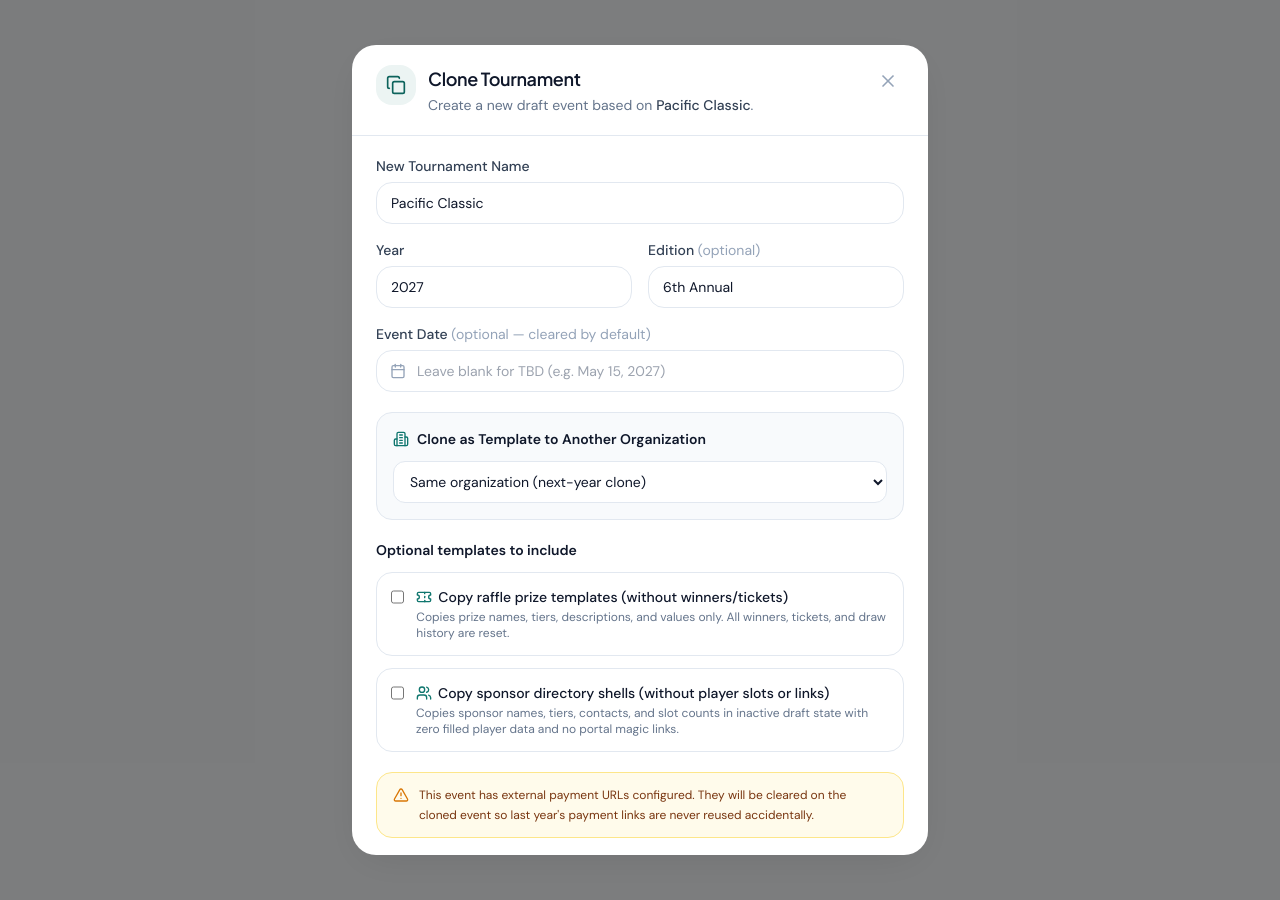
CloneTournamentModal › shows cross-org selector for super_admin, hides sponsor shells, displays strip notice, and submits target_organization_id
The image size is (1280, 900).
Later steps or results of the test are not shown.
Click the 2nd checkbox at {"x": 398, "y": 693}, box [391,685,404,701]
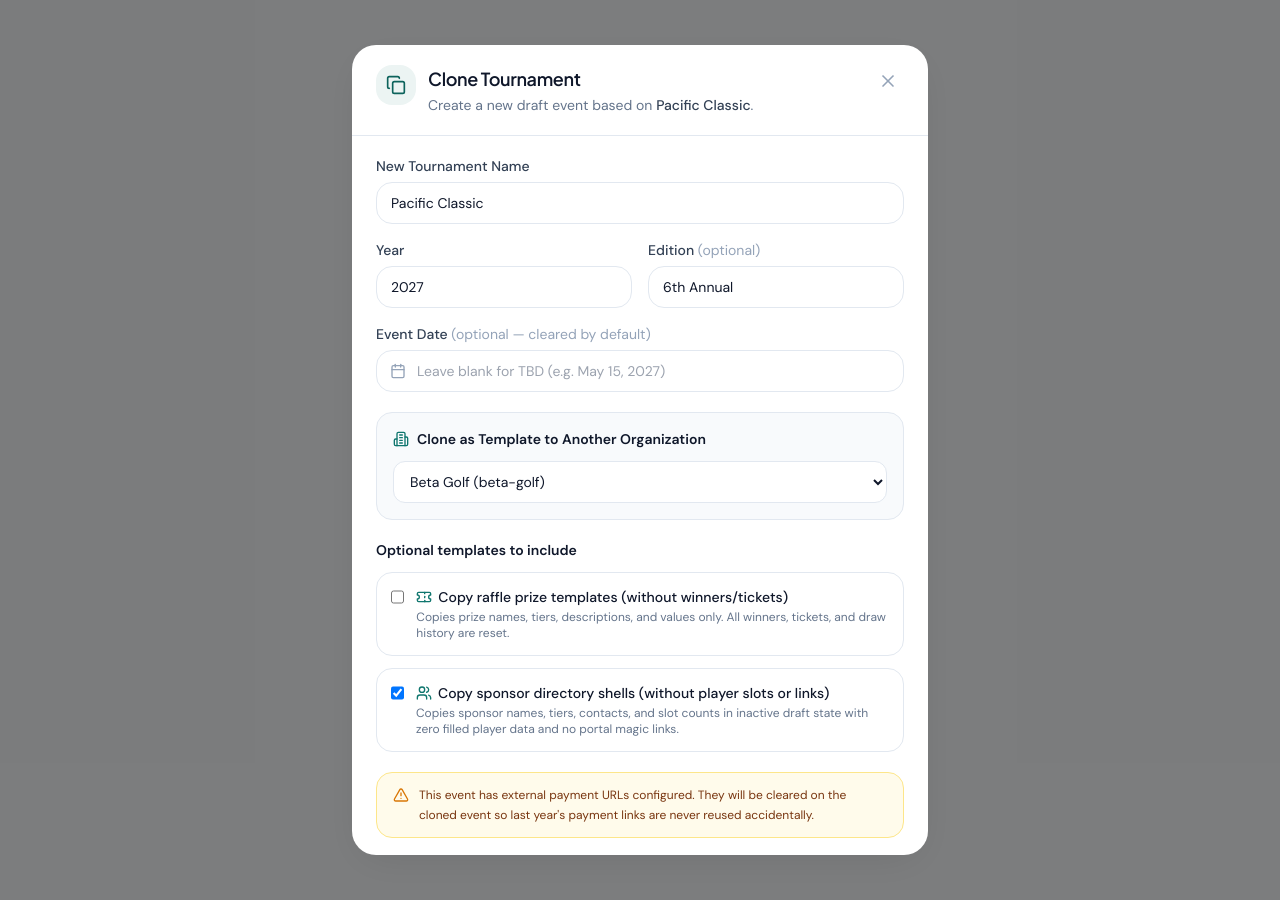
Select "Beta Golf (beta-golf)" in the dropdown with id "clone-target-org" at {"x": 640, "y": 482}, box [393,461,887,503]
Select "Beta Golf (beta-golf)" in the dropdown with id "clone-target-org" at {"x": 640, "y": 482}, box [393,461,887,503]
(page scrolled)
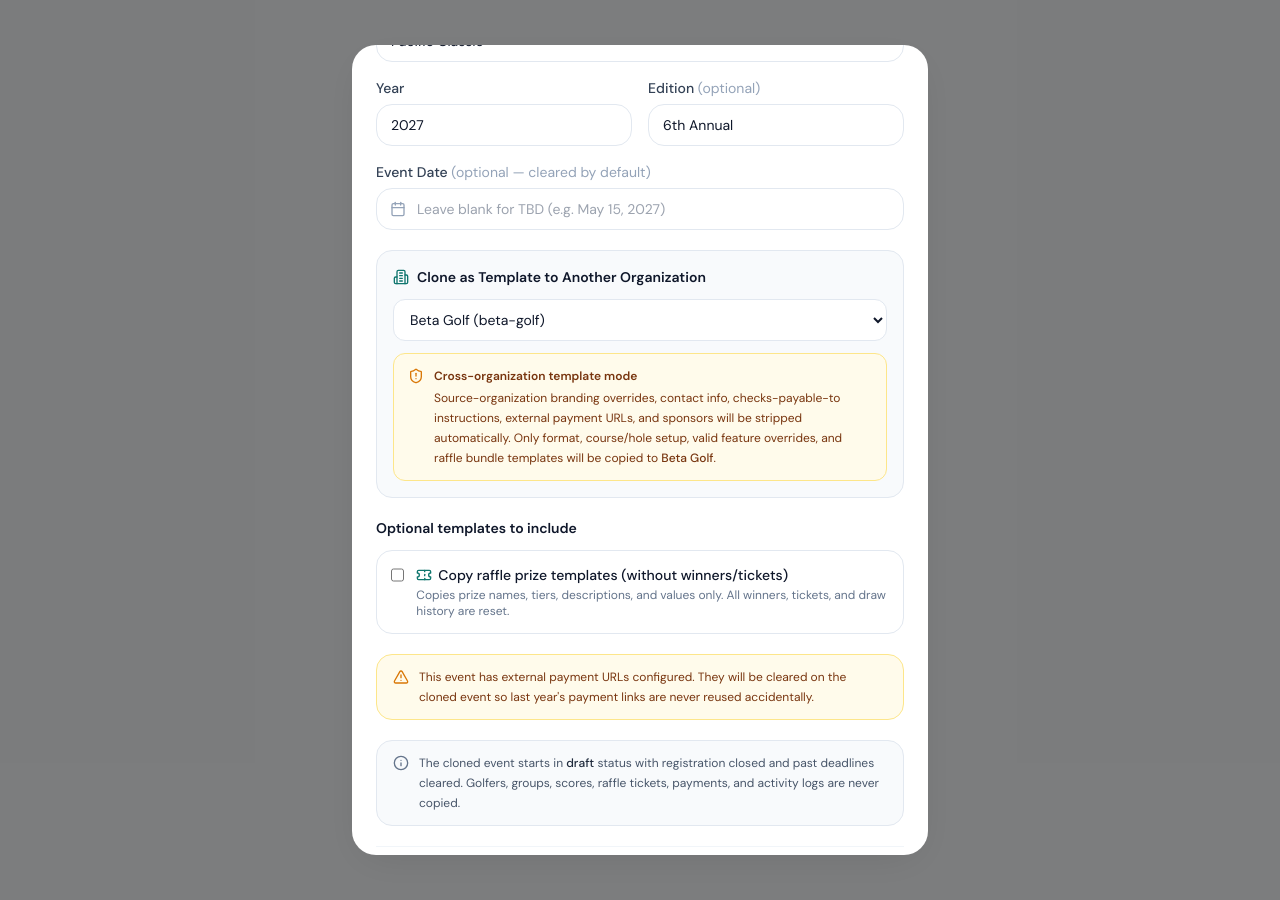
Check: the number of checkboxes is 1, box [391,567,404,583]
Check: the element with test id "cross-org-strip-notice" is shown, box [393,353,887,481]
Check: the element with test id "cross-org-strip-notice" shows "Beta Golf", box [661,450,714,466]
